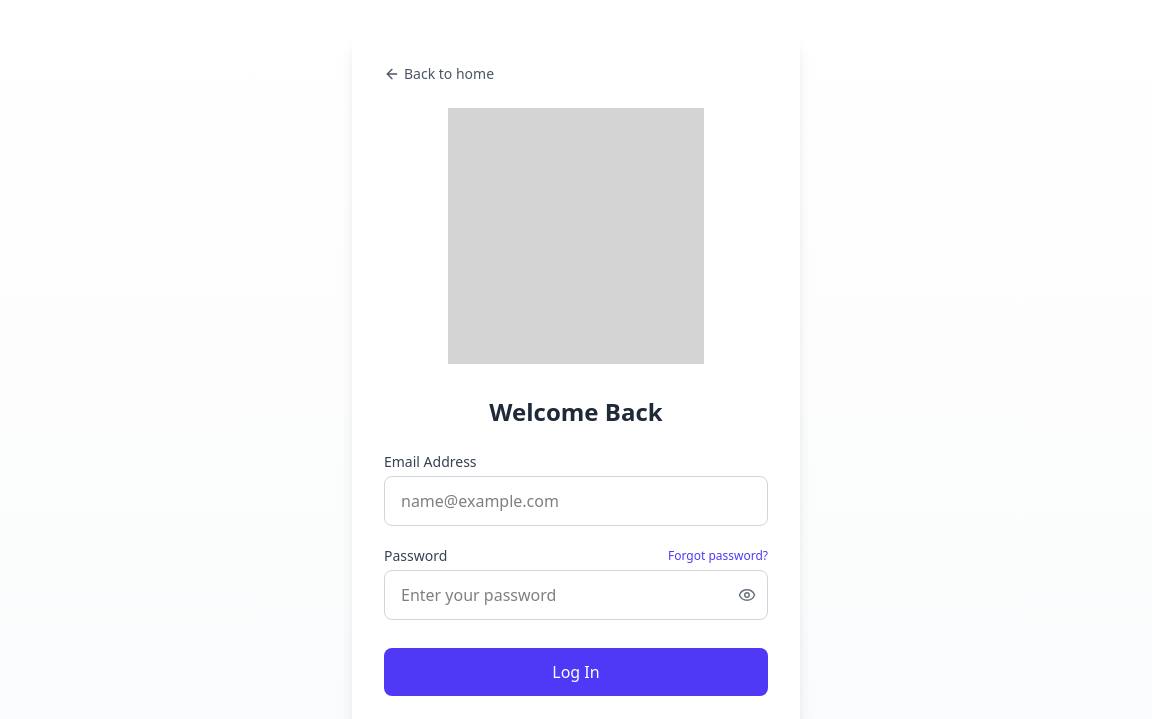
Test: Login Component › handles login error
Type "test@example.com" into the field labelled "Email Address" at (576, 501), box [384,476,768,526]
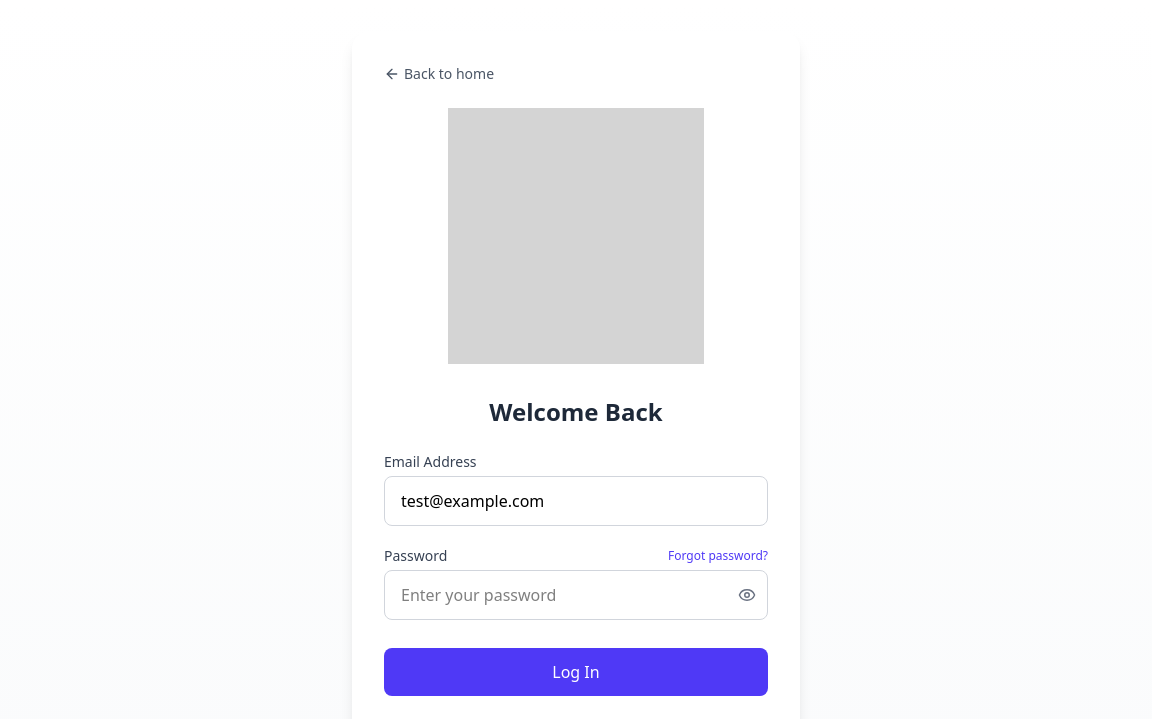
Type "wrong-password" into the password field labelled "Password" at (576, 595), box [384,570,768,620]
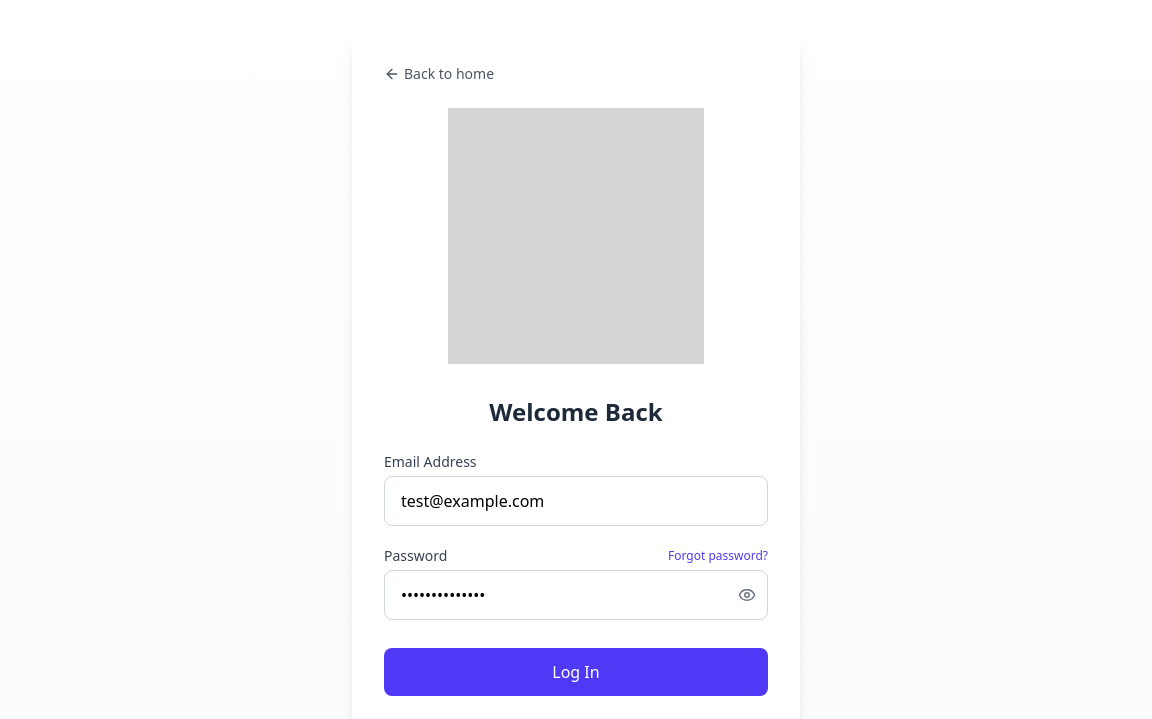
Click the button "Log In" at (576, 672), box [384,648,768,696]
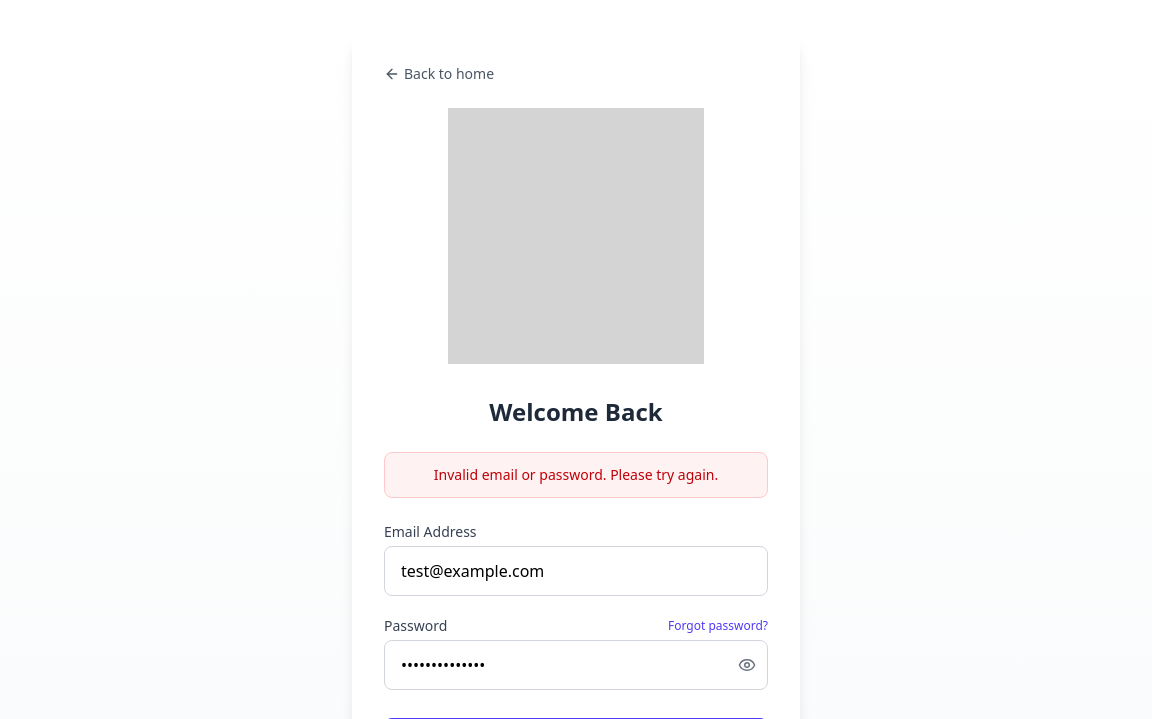
Now the text "Invalid email or password. Please try again." is shown, box [384,452,768,498]
